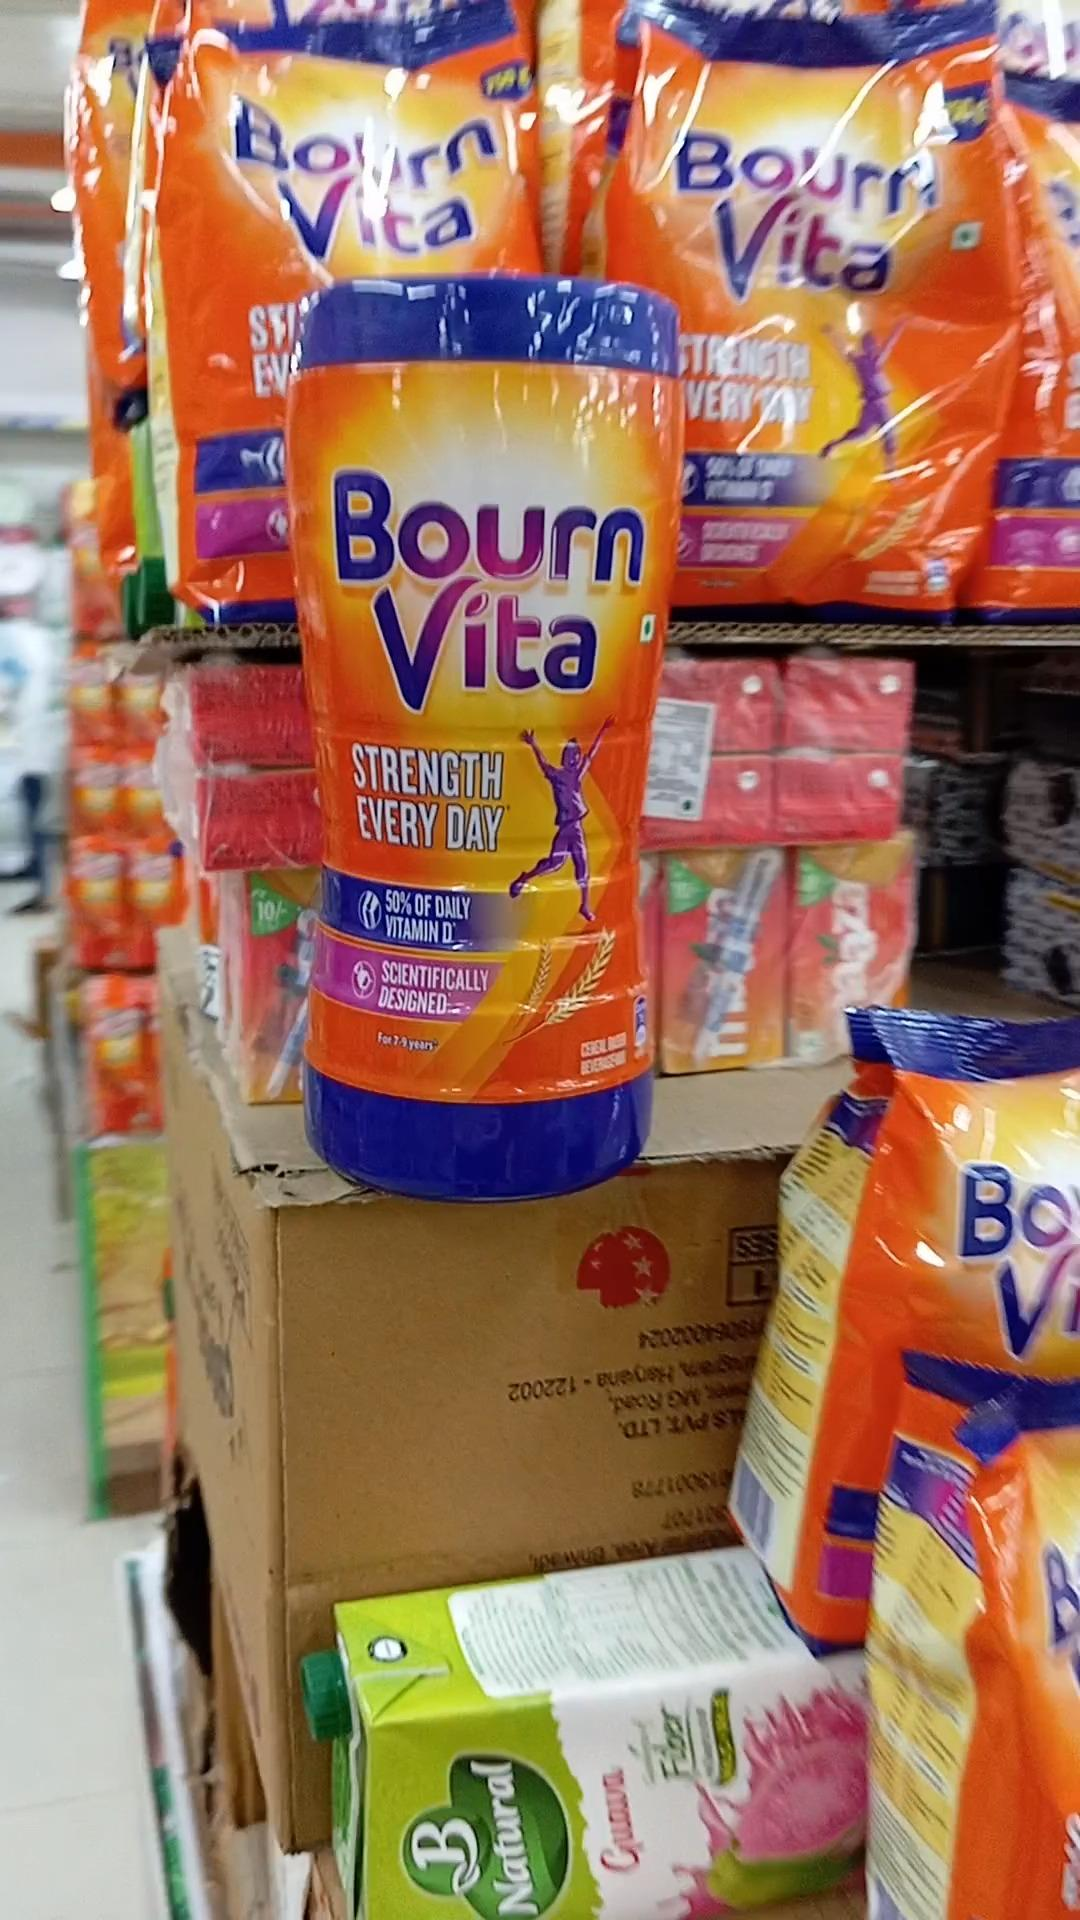BOURN_VITA_1_KG_JAR: (282, 265, 662, 1189)
